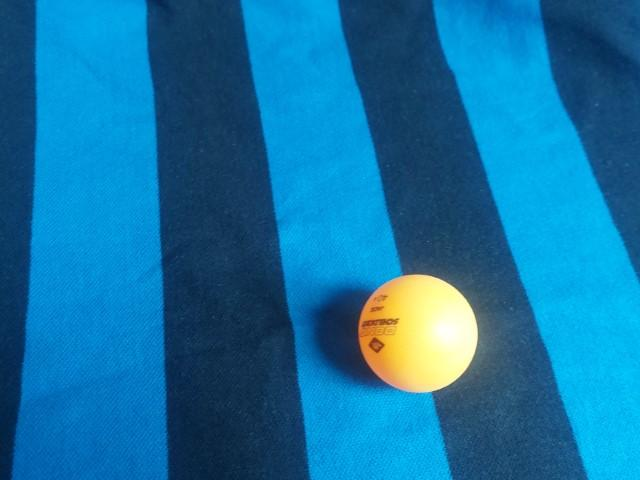oball: (147, 81, 291, 216)
